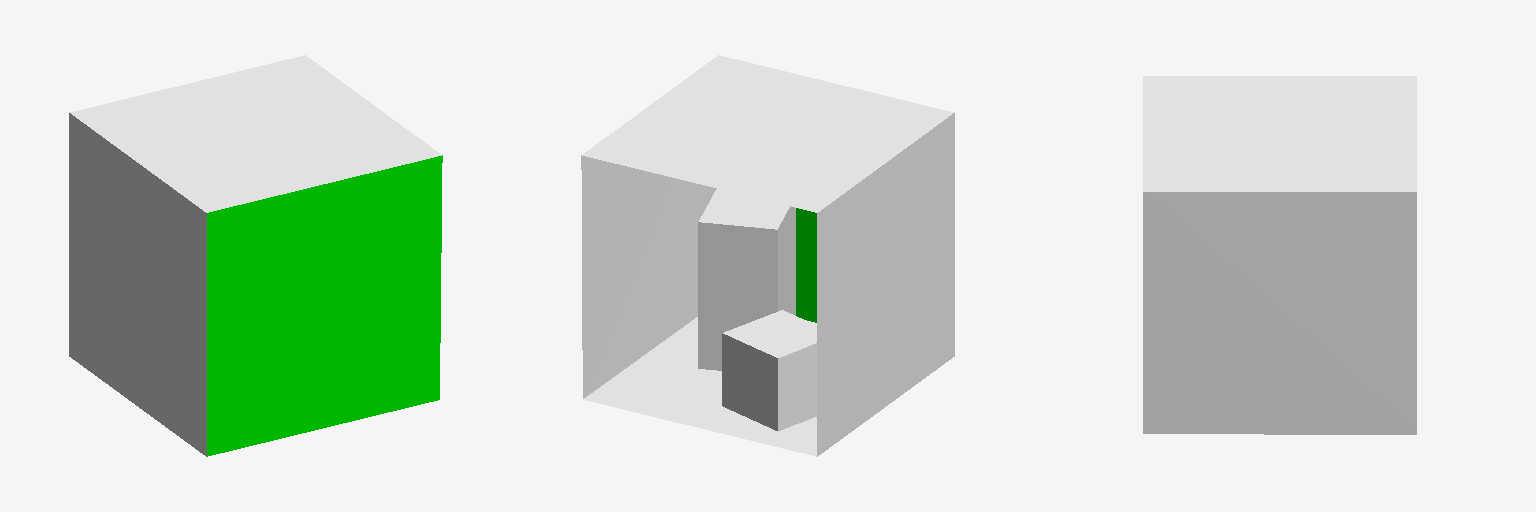
Rendered from cornell_tess4.5.obj.
The picture shows the model from 3 angles: view 1: azimuth 30°, elevation 25°; view 2: azimuth 150°, elevation 25°; view 3: azimuth 270°, elevation 25°; orthographic projection.
Visible parts, largest first — view 1: back_wall, green_wall, ceiling; view 2: green_wall, ceiling, red_wall, tall_block, floor, short_block, back_wall; view 3: red_wall, ceiling.
Boxes of the visible parts, box(x1,y1,x2,y2) form: back_wall: box(207, 155, 442, 456); green_wall: box(69, 113, 206, 456); ceiling: box(70, 55, 441, 212); green_wall: box(817, 113, 954, 456); ceiling: box(582, 55, 953, 212); red_wall: box(581, 155, 716, 398); tall_block: box(698, 189, 795, 370); floor: box(583, 317, 816, 456); short_block: box(722, 310, 816, 431); back_wall: box(796, 208, 816, 322); red_wall: box(1143, 192, 1416, 434); ceiling: box(1143, 76, 1416, 191).
Bounding box in the file's own units: 556 × 549 × 559.